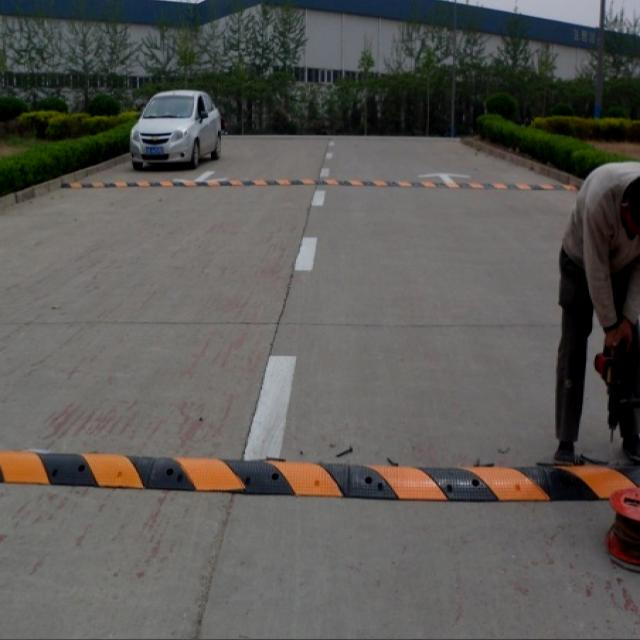Speed Bump: (6, 440, 638, 505), (54, 176, 578, 194)
